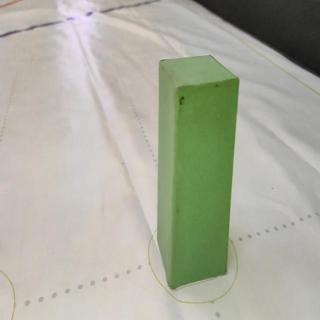greenbox: (158, 53, 240, 291)
